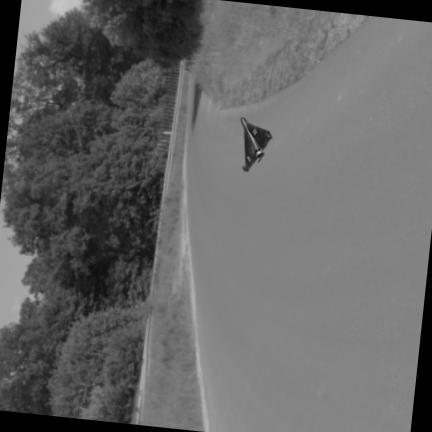Shahed: (241, 117, 271, 170)
